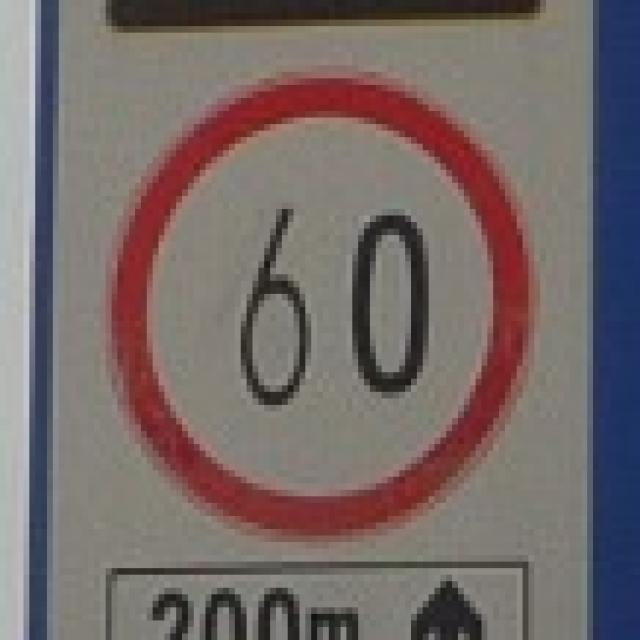Speed Limit -60-: (232, 196, 435, 412)
